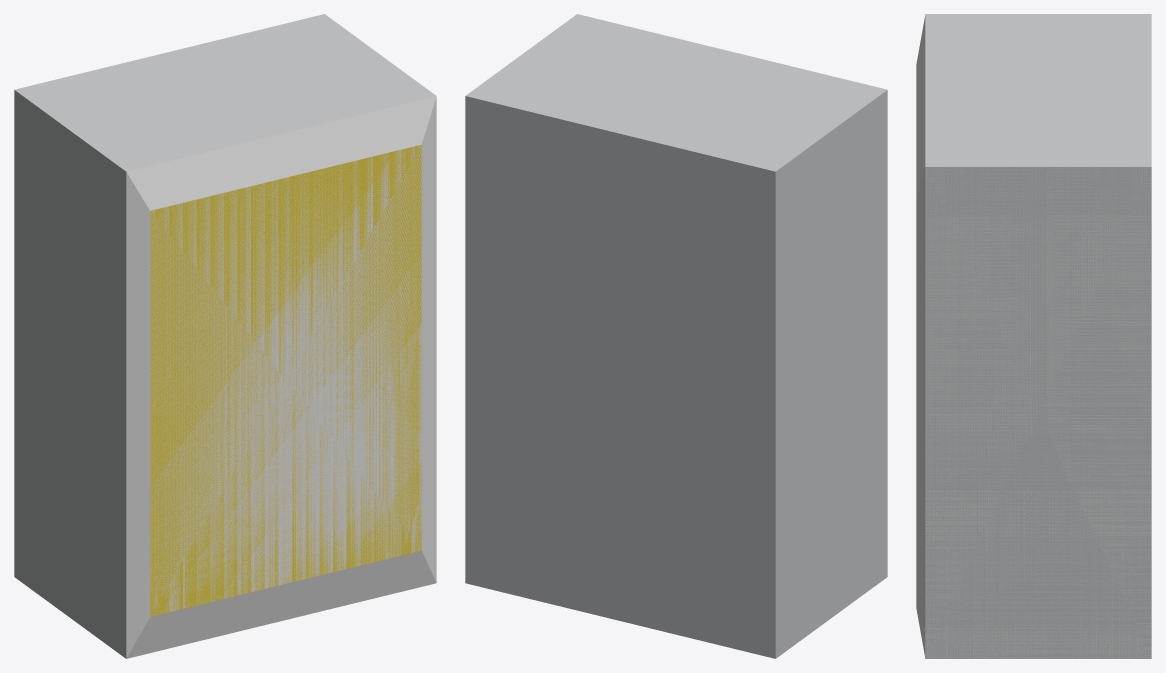
File: Prop_UtilityCabinet.glb
3 renders of one model, left to right at view 1: azimuth 30°, elevation 25°; view 2: azimuth 150°, elevation 25°; view 3: azimuth 270°, elevation 25°, orthographic.
Visible parts, largest first — view 1: Prop_UtilityCabinet_LOD0, Prop_UtilityCabinet_COL; view 2: Prop_UtilityCabinet_LOD0; view 3: Prop_UtilityCabinet_LOD0, Prop_UtilityCabinet_COL.
Boxes of the visible parts, <box> form: Prop_UtilityCabinet_LOD0: <box>14,14,435,658</box>; Prop_UtilityCabinet_COL: <box>126,96,436,658</box>; Prop_UtilityCabinet_LOD0: <box>465,14,887,658</box>; Prop_UtilityCabinet_LOD0: <box>925,14,1151,658</box>; Prop_UtilityCabinet_COL: <box>916,15,1151,658</box>.
Size of what is drawn, in the model's own units: 0.8 by 1.2 by 0.52.
